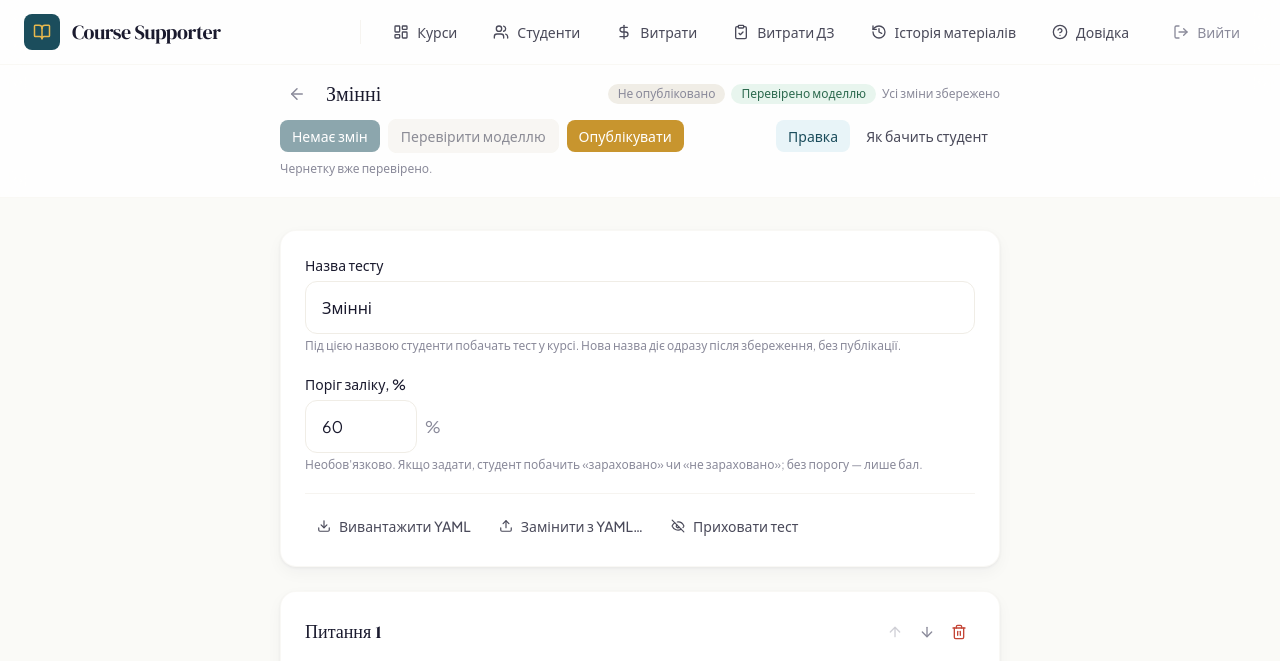
it: TestEditorPage › publishes a checked draft with a plain confirmation
Click the button "Опублікувати". click: x=625, y=136
box: [567,120,684,152]
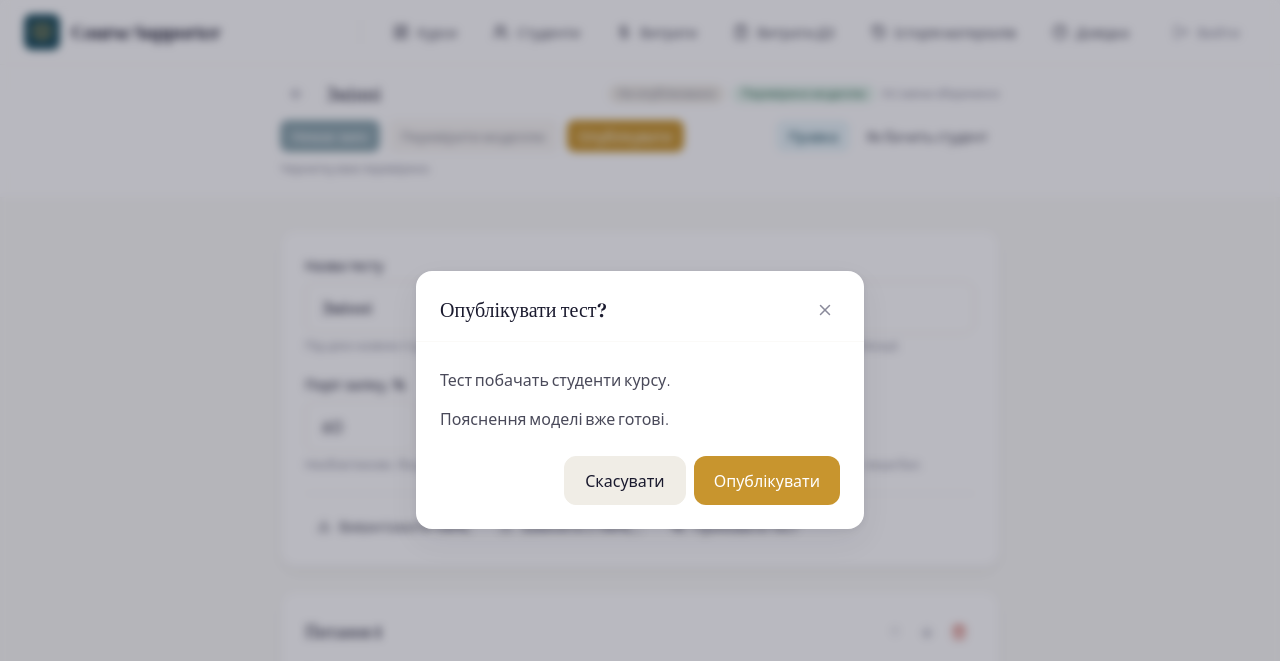
expect the dialog "Опублікувати тест?" does not show "Чернетку не перевірено моделлю": met, box [416,271,864,529]
expect the dialog "Опублікувати тест?" shows "Тест побачать студенти курсу.": met, box [440,369,671,390]
expect the dialog "Опублікувати тест?" shows "Пояснення моделі вже готові.": met, box [440,408,669,429]
Click the button "Опублікувати". click: x=767, y=481
box: [694,456,840,505]
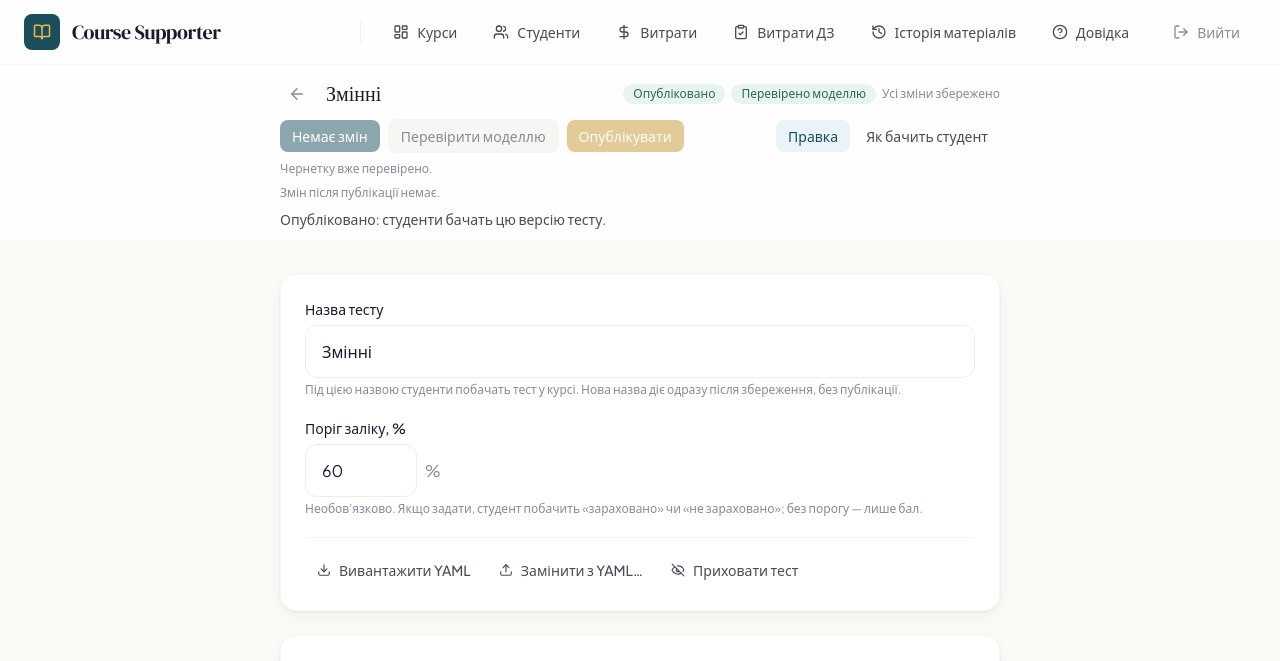
expect the text "Опубліковано" is shown: met, box [623,84,725,104]
expect the text "Опубліковано: студенти бачать цю версію тесту." is shown: met, box [280,210,606,228]
expect the dialog is gone: met
